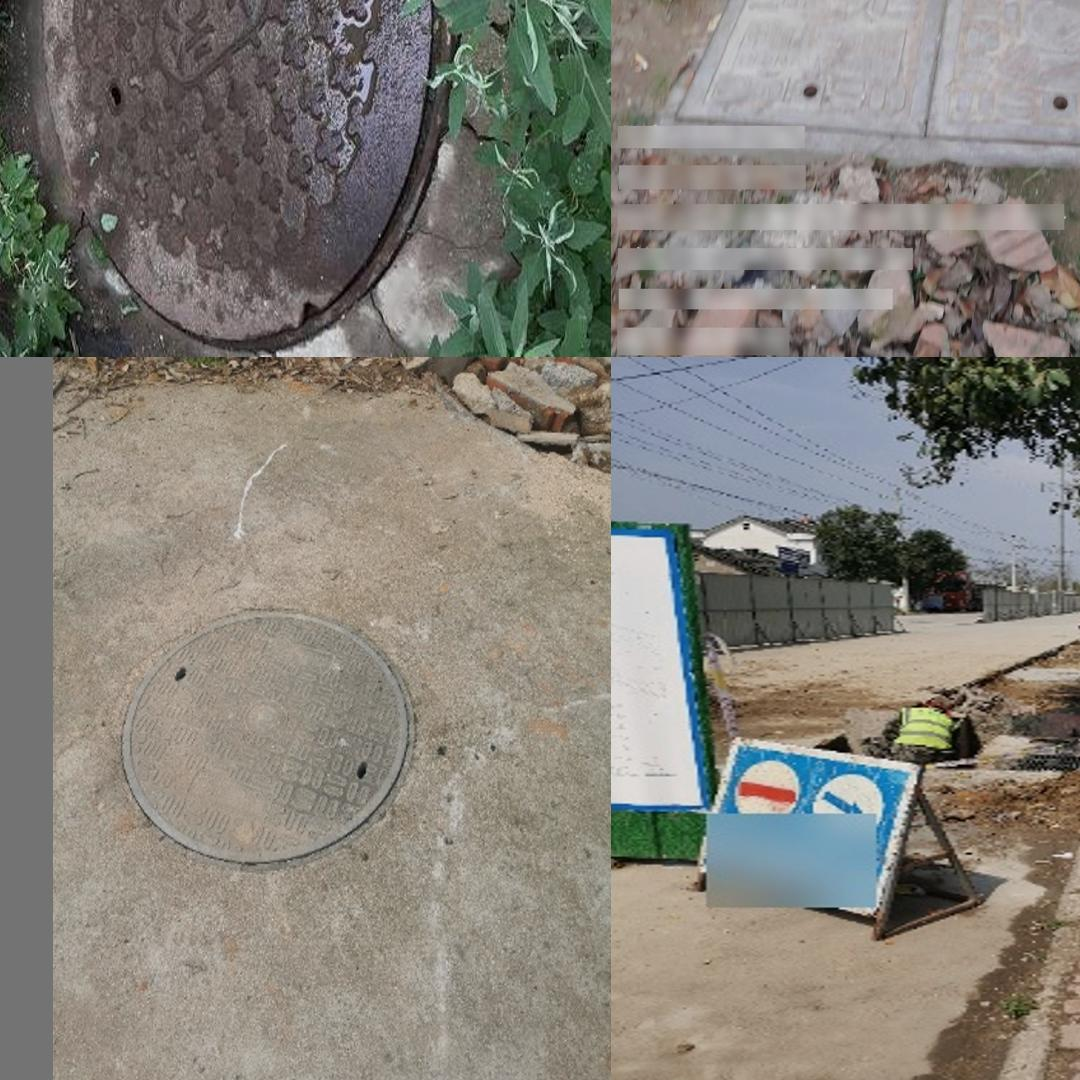good: (15, 0, 462, 349), (119, 610, 415, 869), (673, 0, 1080, 147)
